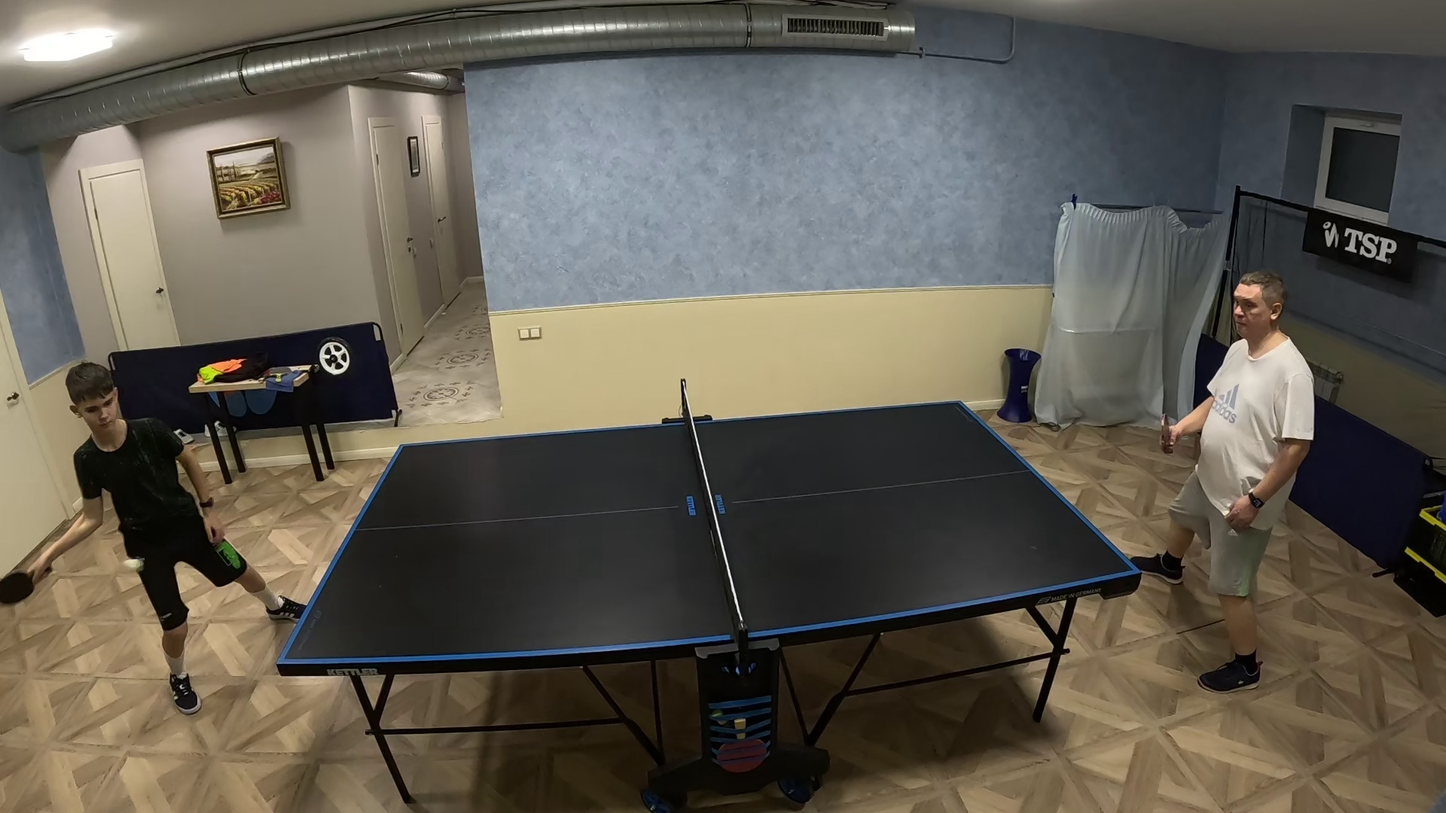Ball: (122, 560, 144, 567)
